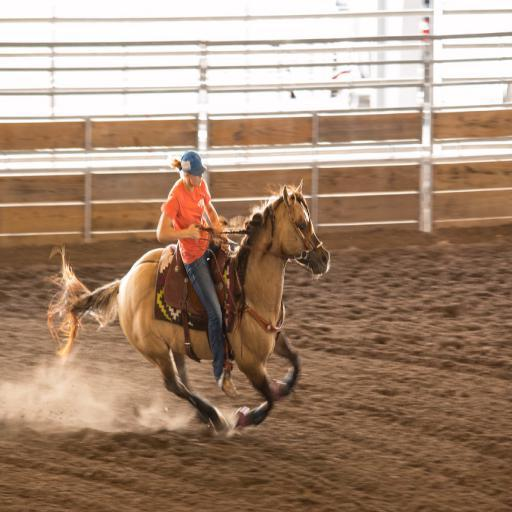Horse: (46, 180, 331, 438)
